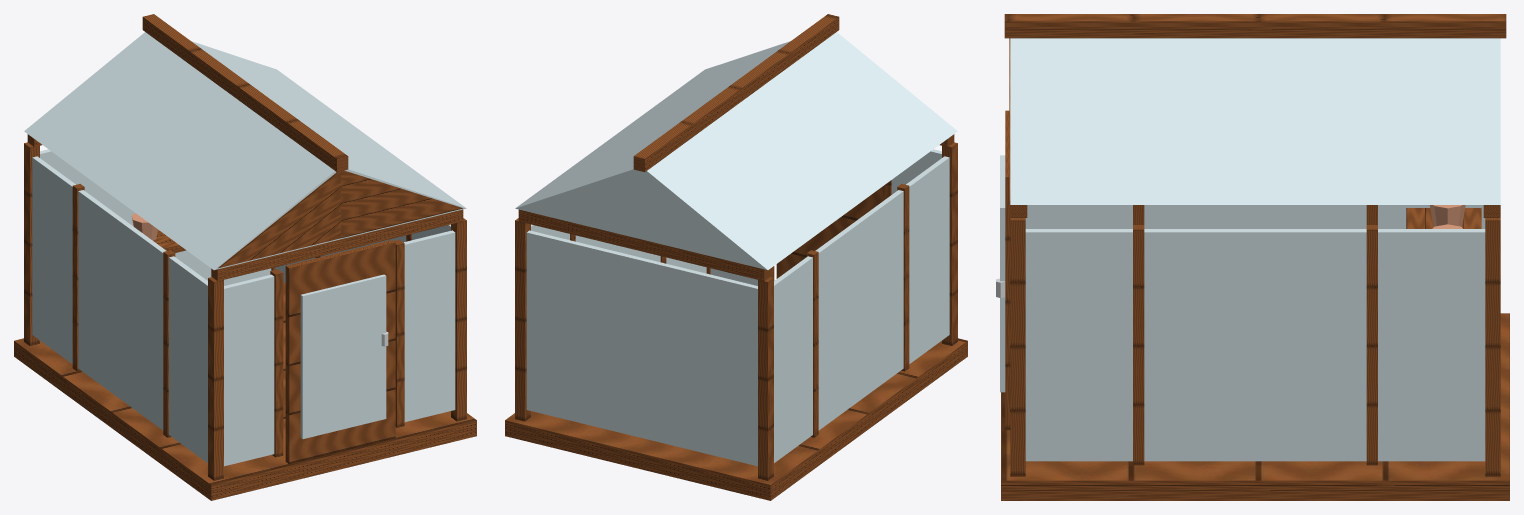
The model's file is allotments-and-community-garden-timber-greenhouse-20a90a3b.glb.
3 renders of one model, left to right at view 1: azimuth 30°, elevation 25°; view 2: azimuth 150°, elevation 25°; view 3: azimuth 270°, elevation 25°, orthographic. The views are drawn at different scales.
Visible parts, largest first — view 1: timber-greenhouse-glass, timber-greenhouse-timber, door/glass, door/timber; view 2: timber-greenhouse-glass, timber-greenhouse-timber, door/timber; view 3: timber-greenhouse-glass, timber-greenhouse-timber, door/timber, door/glass, timber-greenhouse-terracotta.
Part boxes in pixels (x1,y1,x2,y2): timber-greenhouse-glass: [24, 32, 466, 466]; timber-greenhouse-timber: [14, 14, 476, 500]; door/glass: [300, 274, 386, 438]; door/timber: [285, 240, 395, 464]; timber-greenhouse-glass: [515, 32, 957, 466]; timber-greenhouse-timber: [505, 14, 967, 500]; door/timber: [776, 186, 882, 278]; timber-greenhouse-glass: [1010, 38, 1500, 461]; timber-greenhouse-timber: [1001, 14, 1509, 500]; door/timber: [1005, 110, 1010, 430]; door/glass: [1000, 155, 1005, 392]; timber-greenhouse-terracotta: [1429, 205, 1465, 228].
Size of the model in its own units: 2.1 by 2.34 by 2.73.
Materials: 4 (1 with a texture image).
